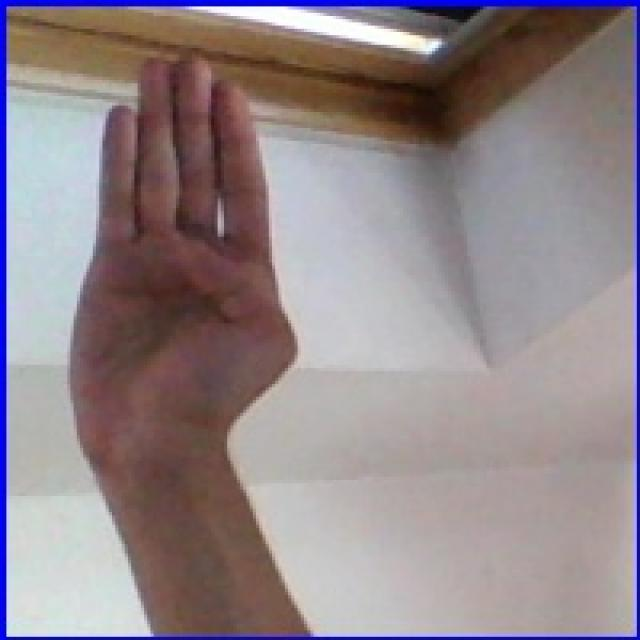Letra B: (32, 35, 337, 473)
